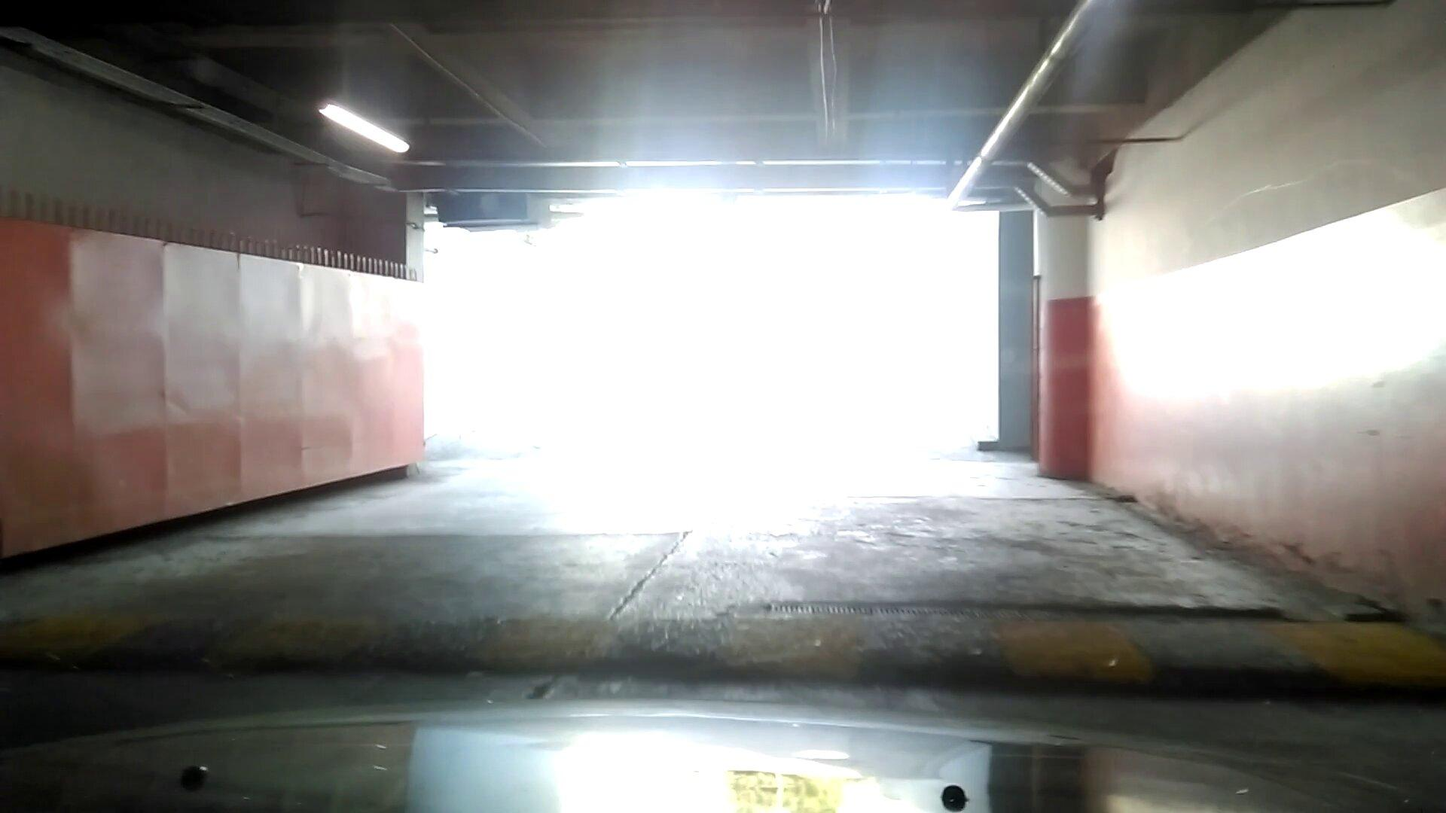Bump: (17, 602, 1446, 706)
